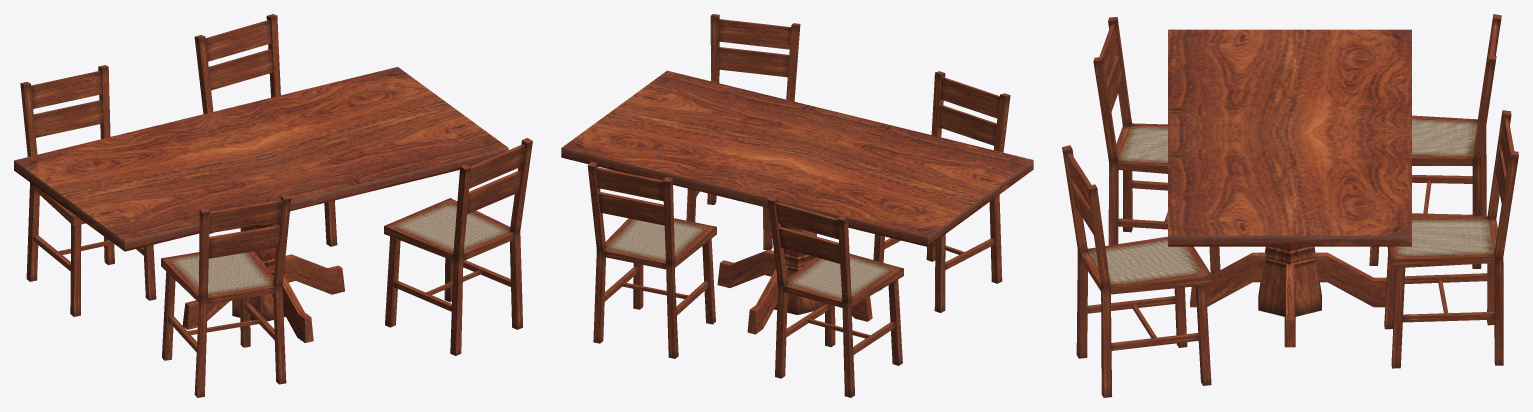
File: rectangletable.fbx
The picture shows the model from 3 angles, left to right: view 1: azimuth 30°, elevation 25°; view 2: azimuth 150°, elevation 25°; view 3: azimuth 270°, elevation 25°; orthographic projection. The views are drawn at different scales.
Parts seen in each view (by area): view 1: mesh_0, mesh_1; view 2: mesh_0, mesh_1; view 3: mesh_0, mesh_1.
Boxes of the visible parts, x1=… form: mesh_0: x1=14, y1=67, x2=508, y2=342; mesh_1: x1=20, y1=14, x2=532, y2=397; mesh_0: x1=561, y1=70, x2=1033, y2=334; mesh_1: x1=587, y1=14, x2=1010, y2=397; mesh_0: x1=1168, y1=29, x2=1411, y2=347; mesh_1: x1=1062, y1=14, x2=1518, y2=397.
Bounding box in the file's own units: 200 × 95.76 × 187.
Materials: 2 (2 with a texture image).
